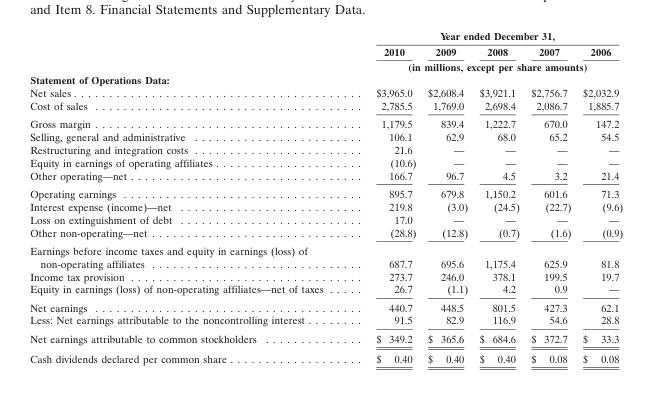table: (29, 29, 622, 364)
table column: (29, 29, 349, 364), (349, 29, 421, 364), (472, 29, 524, 364), (524, 29, 576, 364), (421, 29, 472, 364), (576, 29, 622, 364)
table column header: (29, 29, 622, 73)
table projected row header: (29, 73, 622, 85)
table row: (29, 241, 622, 269), (29, 328, 622, 347), (29, 347, 622, 364), (29, 98, 622, 114), (29, 168, 622, 184), (29, 225, 622, 241), (29, 297, 622, 313), (29, 43, 622, 58), (29, 58, 622, 73), (29, 114, 622, 129), (29, 184, 622, 199), (29, 282, 622, 297), (29, 313, 622, 328), (29, 29, 622, 43), (29, 85, 622, 98), (29, 129, 622, 142), (29, 142, 622, 155), (29, 155, 622, 168), (29, 199, 622, 212), (29, 212, 622, 225), (29, 269, 622, 282), (29, 73, 622, 85)
table spanning cell: (349, 58, 622, 73), (349, 29, 622, 43)
